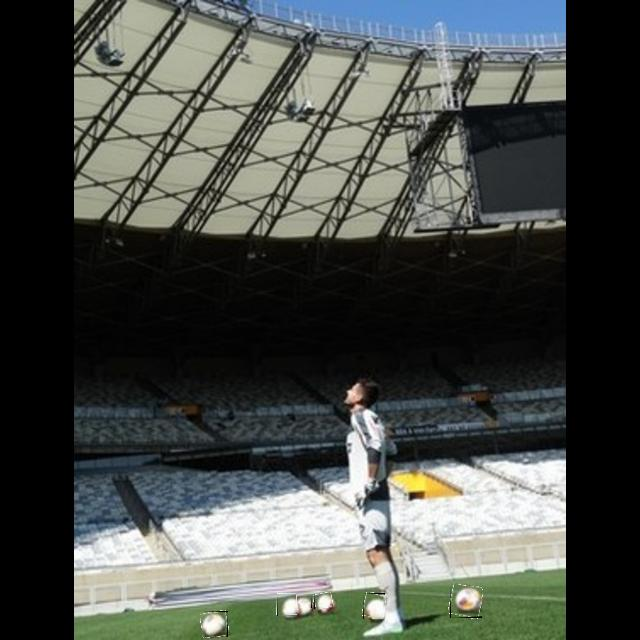Football: (450, 586, 482, 618), (202, 611, 228, 637), (363, 593, 385, 619), (277, 594, 297, 616), (314, 593, 332, 609), (300, 594, 312, 608)
